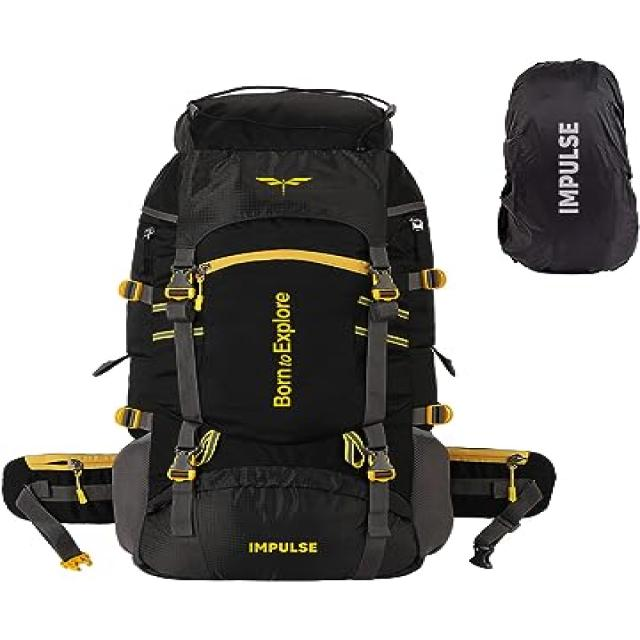backpack: (90, 77, 461, 586)
